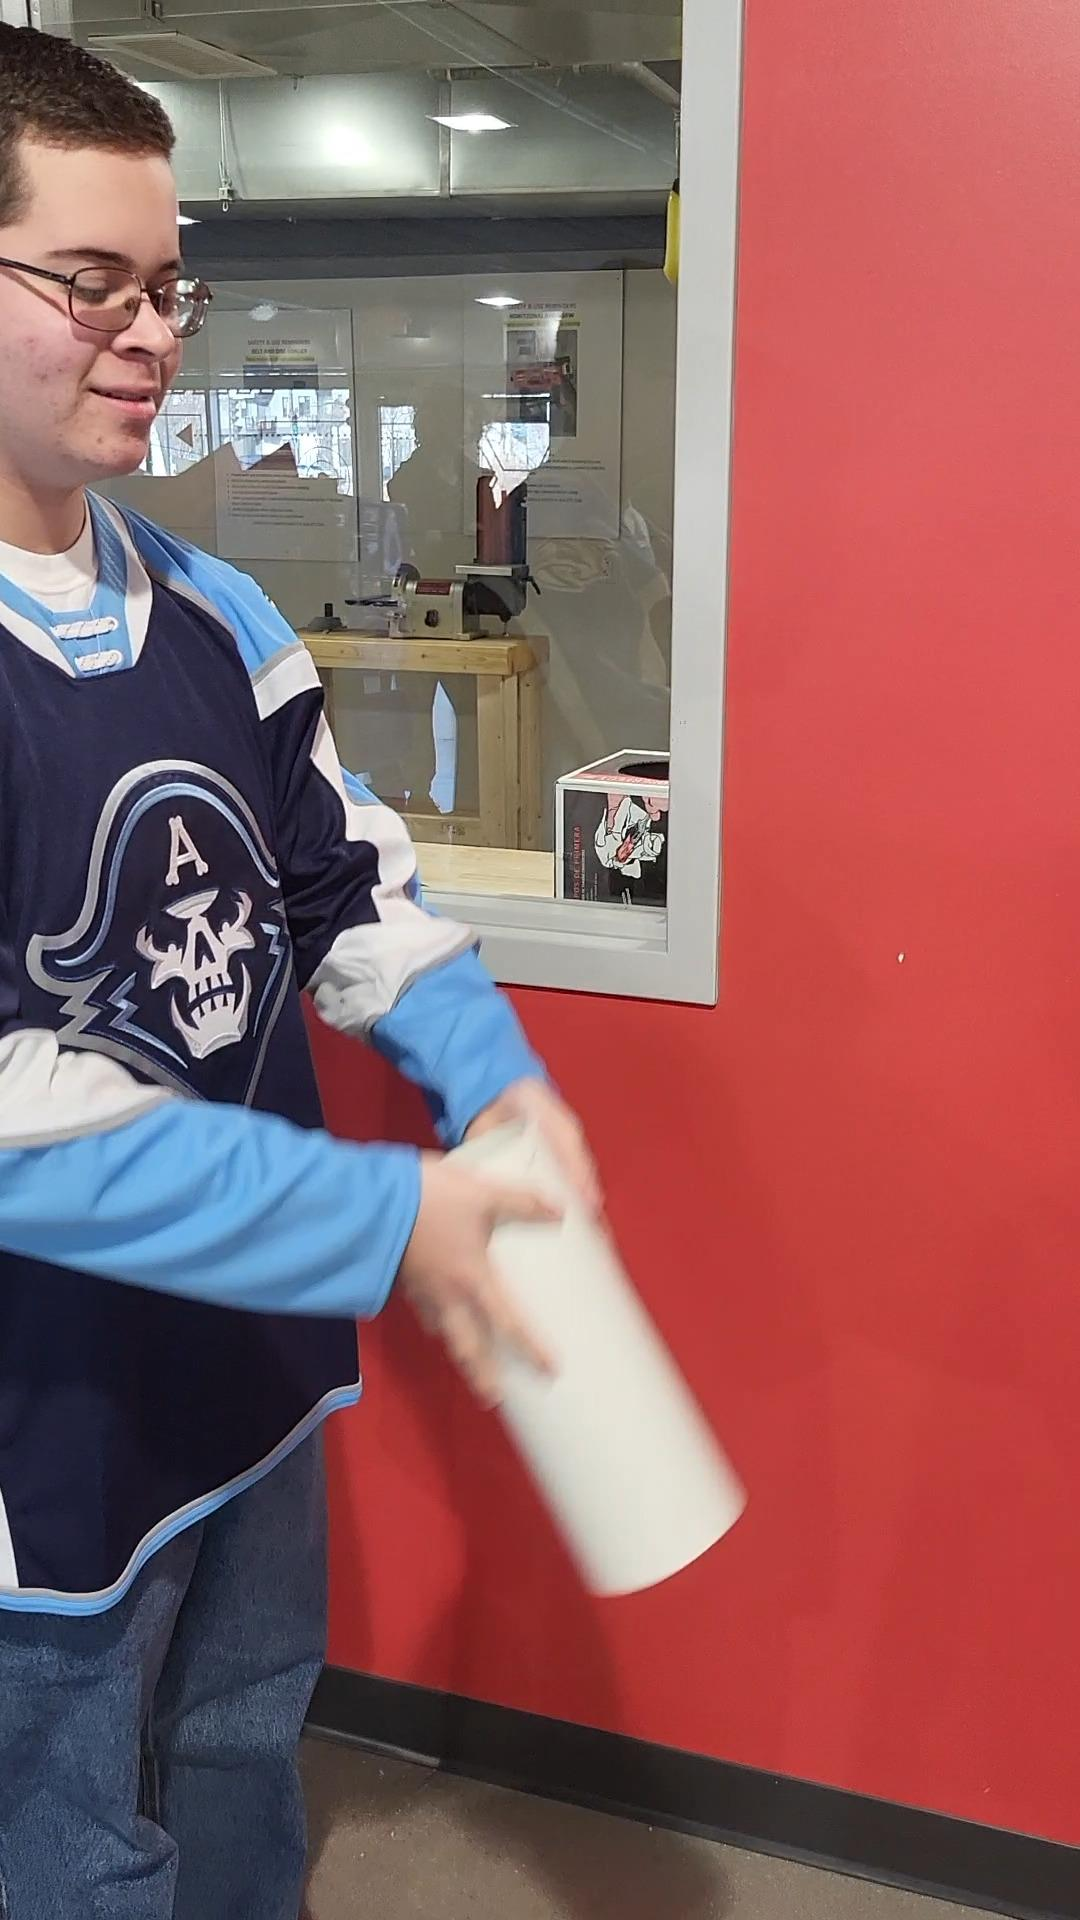coral: (406, 1114, 737, 1604)
